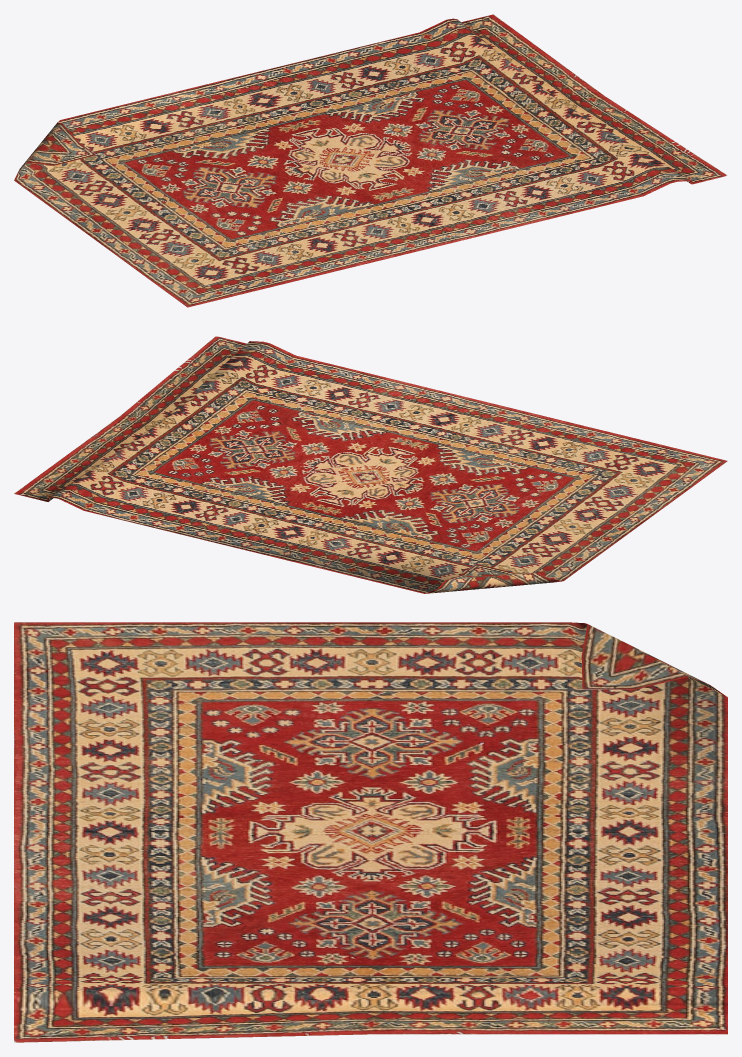
The model's file is Carpet.glb.
The picture shows the model from 3 angles, top to bottom: view 1: azimuth 30°, elevation 25°; view 2: azimuth 150°, elevation 25°; view 3: azimuth 270°, elevation 25°; orthographic projection. The views are drawn at different scales.
Visible parts, largest first — view 1: Carpet; view 2: Carpet; view 3: Carpet.
Boxes of the visible parts, <box> form: Carpet: <box>14,14,727,307</box>; Carpet: <box>14,336,727,593</box>; Carpet: <box>14,622,727,1042</box>.
Bounding box in the file's own units: 2.79 × 0.043 × 2.
1 material, 1 textured.
